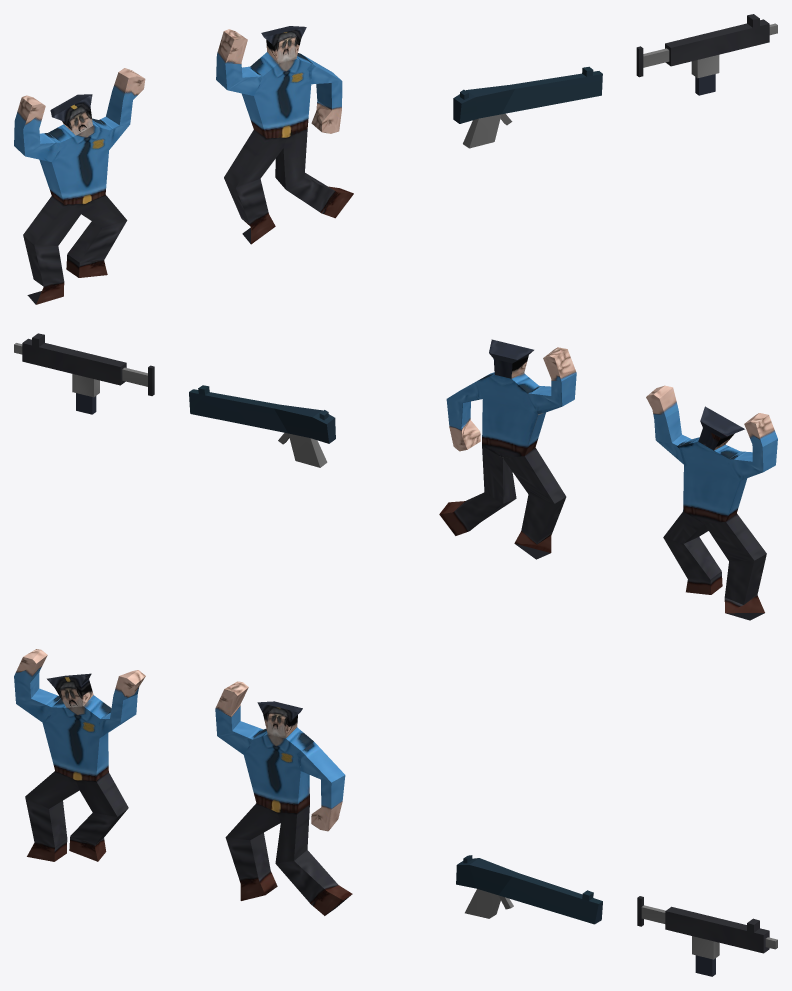
Rendered from GarbageCopPistol_4items.fbx.
3 renders of one model, top to bottom at view 1: azimuth 30°, elevation 25°; view 2: azimuth 150°, elevation 25°; view 3: azimuth 330°, elevation 25°, orthographic.
Parts seen in each view (by area): view 1: COP_WITH_PISTOL1, COP_WITH_PISTOL2, PISTOL_1, PISTOL_2; view 2: COP_WITH_PISTOL1, COP_WITH_PISTOL2, PISTOL_1, PISTOL_2; view 3: COP_WITH_PISTOL1, COP_WITH_PISTOL2, PISTOL_1, PISTOL_2.
Boxes of the visible parts, left/top/right/bottom form: COP_WITH_PISTOL1: left=216, top=26, right=353, bottom=244; COP_WITH_PISTOL2: left=14, top=68, right=145, bottom=304; PISTOL_1: left=453, top=66, right=602, bottom=148; PISTOL_2: left=636, top=14, right=777, bottom=95; COP_WITH_PISTOL1: left=439, top=339, right=576, bottom=559; COP_WITH_PISTOL2: left=646, top=385, right=777, bottom=620; PISTOL_1: left=189, top=385, right=335, bottom=467; PISTOL_2: left=14, top=333, right=154, bottom=414; COP_WITH_PISTOL1: left=215, top=681, right=352, bottom=915; COP_WITH_PISTOL2: left=14, top=649, right=145, bottom=861; PISTOL_1: left=456, top=855, right=602, bottom=924; PISTOL_2: left=637, top=896, right=777, bottom=976.
Size of what is drawn, in the model's own units: 55.29 by 15.08 by 1.56.
